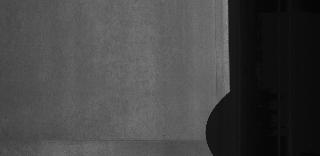welding line: (2, 136, 210, 146)
